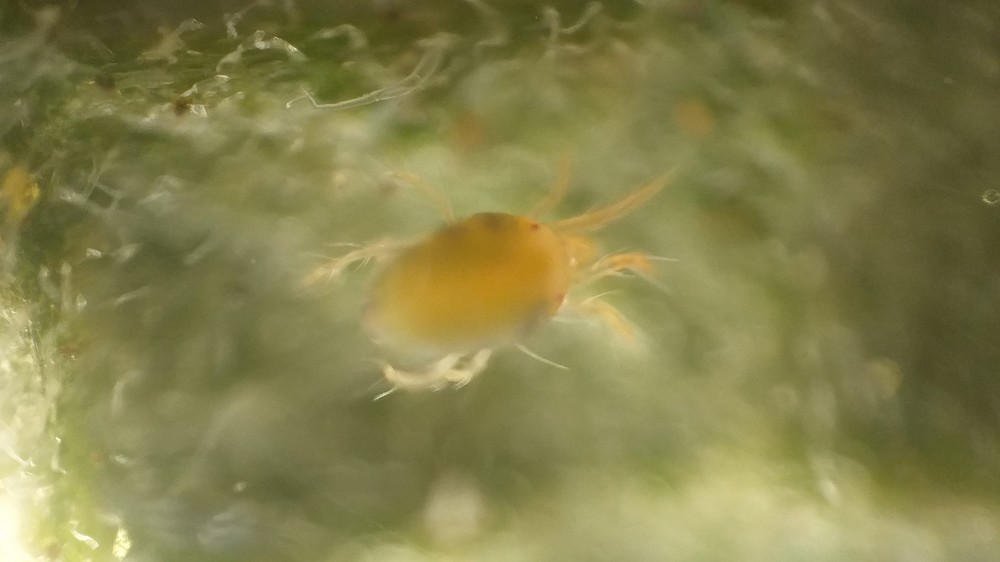Aracnido Rojo: (284, 150, 719, 437)
